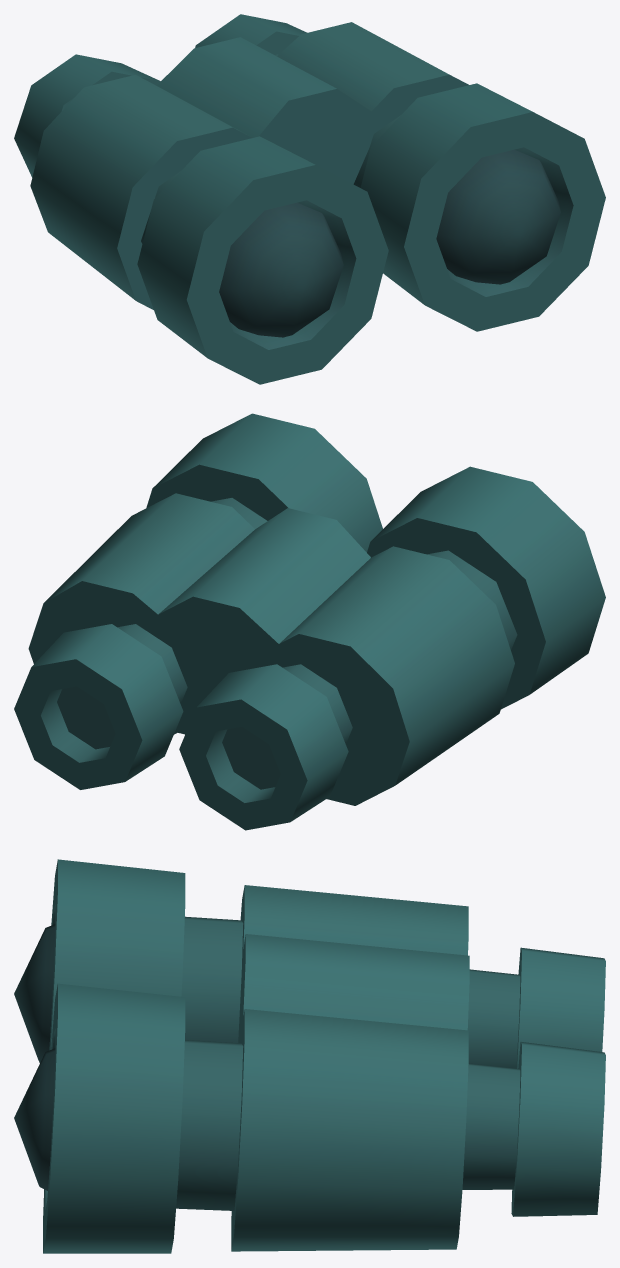
Rendered from SM_Binoculars.fbx.
3 renders of one model, top to bottom at view 1: azimuth 30°, elevation 25°; view 2: azimuth 150°, elevation 25°; view 3: azimuth 270°, elevation 25°, orthographic. The views are drawn at different scales.
Parts seen in each view (by area): view 1: SM_Binoculars; view 2: SM_Binoculars; view 3: SM_Binoculars.
Part boxes in pixels (x1,y1,x2,y2): SM_Binoculars: (14,14,605,384); SM_Binoculars: (14,413,605,830); SM_Binoculars: (14,859,605,1253).
Bounding box in the file's own units: 26.34 × 12.01 × 27.5.
